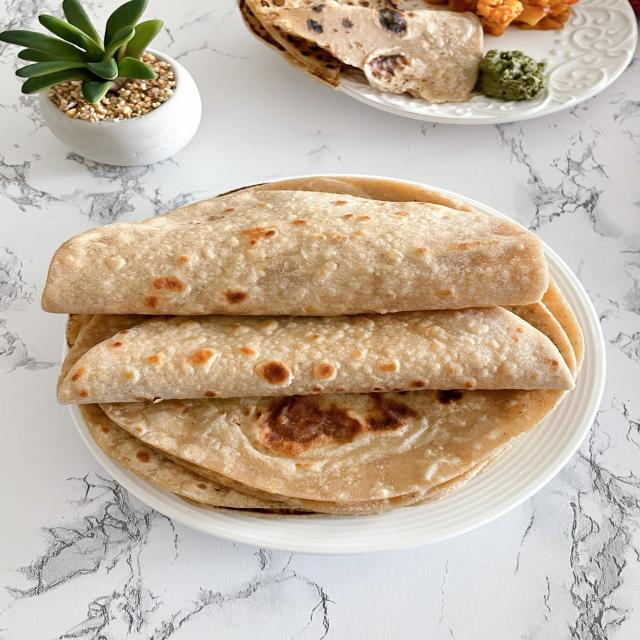roti: (43, 175, 545, 316), (97, 390, 565, 502), (54, 306, 573, 404), (252, 5, 483, 105), (80, 412, 290, 509)
